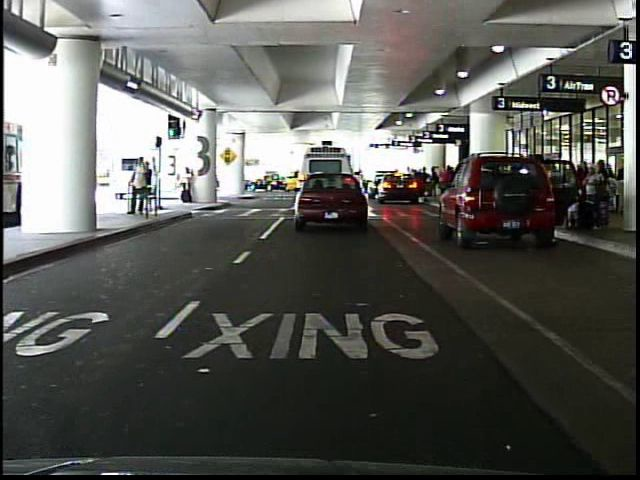person: (529, 152, 561, 234), (127, 154, 150, 220), (143, 160, 160, 218), (178, 167, 197, 208), (438, 163, 454, 201)
